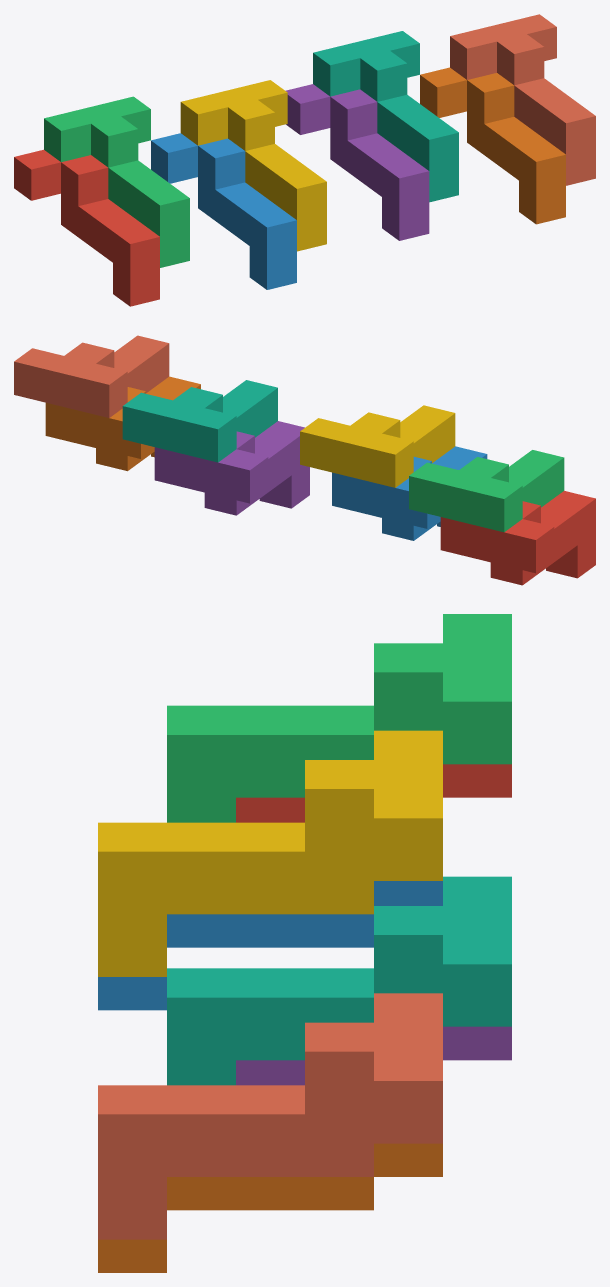
The model's file is tiling.obj.
The picture shows the model from 3 angles, top to bottom: view 1: azimuth 30°, elevation 25°; view 2: azimuth 150°, elevation 25°; view 3: azimuth 270°, elevation 25°; orthographic projection. The views are drawn at different scales.
Parts seen in each view (by area): view 1: copy_1_domain_4, copy_1_domain_7, copy_1_domain_8, copy_1_domain_3, copy_1_domain_1, copy_1_domain_2, copy_1_domain_6, copy_1_domain_5; view 2: copy_1_domain_1, copy_1_domain_5, copy_1_domain_7, copy_1_domain_3, copy_1_domain_8, copy_1_domain_4, copy_1_domain_6, copy_1_domain_2; view 3: copy_1_domain_4, copy_1_domain_8, copy_1_domain_3, copy_1_domain_7, copy_1_domain_6, copy_1_domain_2, copy_1_domain_5, copy_1_domain_1.
Part boxes in pixels (x1,y1,x2,y2): copy_1_domain_4: [180, 80, 326, 251]; copy_1_domain_7: [313, 31, 458, 202]; copy_1_domain_8: [450, 14, 595, 185]; copy_1_domain_3: [44, 96, 189, 267]; copy_1_domain_1: [14, 149, 159, 306]; copy_1_domain_2: [151, 133, 296, 289]; copy_1_domain_6: [420, 67, 565, 224]; copy_1_domain_5: [285, 84, 429, 240]; copy_1_domain_1: [440, 490, 595, 585]; copy_1_domain_5: [154, 421, 309, 515]; copy_1_domain_7: [122, 380, 277, 462]; copy_1_domain_3: [409, 450, 564, 532]; copy_1_domain_8: [14, 335, 169, 417]; copy_1_domain_4: [300, 405, 455, 487]; copy_1_domain_6: [45, 376, 200, 471]; copy_1_domain_2: [332, 446, 487, 540]; copy_1_domain_4: [98, 730, 442, 976]; copy_1_domain_8: [98, 993, 442, 1239]; copy_1_domain_3: [167, 614, 511, 822]; copy_1_domain_7: [167, 876, 511, 1085]; copy_1_domain_6: [98, 1143, 442, 1272]; copy_1_domain_2: [98, 881, 442, 1010]; copy_1_domain_5: [236, 1026, 511, 1085]; copy_1_domain_1: [236, 764, 511, 822].
Size of the model in its own units: 17 by 4 by 6.
